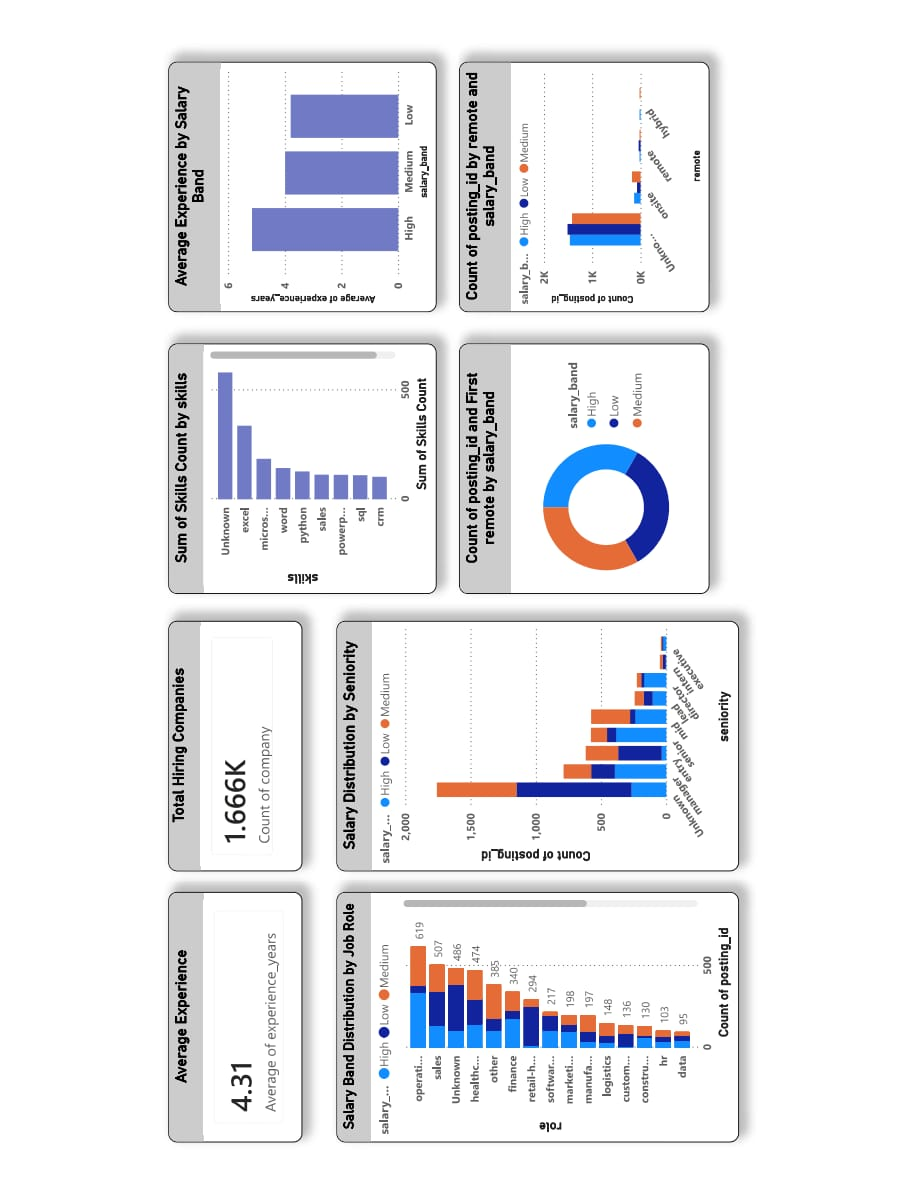

The page's visual inventory and layout, read from the dashboard file:
{"tool":"powerbi","page":{"name":"Salary & Skills Analysis","canvas":[1280,720],"ordinal":1},"visuals":[{"type":"cardVisual","title":"Average Experience","fields":{"Data":["Avg(Balanced_dataset.experience_years)"]},"box":[26.7,35,280,150],"z":0},{"type":"cardVisual","title":"Total Hiring Companies","fields":{"Data":["Count(Balanced_dataset.company)"]},"box":[330,35,280,150],"z":1},{"type":"barChart","title":"Salary Band Distribution by Job Role","fields":{"Category":["Balanced_dataset.role"],"Y":["CountNonNull(Balanced_dataset.posting_id)"],"Series":["Balanced_dataset.salary_band"]},"box":[26.7,223.3,280,450],"z":2},{"type":"columnChart","title":"Salary Distribution by Seniority","fields":{"Category":["Balanced_dataset.seniority"],"Y":["CountNonNull(Balanced_dataset.posting_id)"],"Series":["Balanced_dataset.salary_band"]},"box":[330,223.3,280,450],"z":3},{"type":"clusteredBarChart","fields":{"Category":["Skills Analysis.skills"],"Y":["Sum(Skills Analysis.Skills  Count)"]},"box":[640,35,280,300],"z":4},{"type":"clusteredColumnChart","title":"Average Experience by Salary Band","fields":{"Category":["Balanced_dataset.salary_band"],"Y":["Avg(Balanced_dataset.experience_years)"]},"box":[955,35,280,300],"z":5},{"type":"donutChart","fields":{"Y":["CountNonNull(Balanced_dataset.posting_id)"],"Category":["Balanced_dataset.salary_band"]},"box":[640,360,280,280],"z":6},{"type":"clusteredColumnChart","fields":{"Category":["Balanced_dataset.remote"],"Y":["CountNonNull(Balanced_dataset.posting_id)"],"Series":["Balanced_dataset.salary_band"]},"box":[955,360,280,280],"z":7}]}

Visuals, with their boxes on the page's 1280x720 design canvas (x1, y1, x2, y2). These are canvas units, not pixel positions in the 918x1188 screenshot, which may show the page scaled, cropped or inside an application window:
"Average Experience" cardVisual: (27, 35, 307, 185)
"Total Hiring Companies" cardVisual: (330, 35, 610, 185)
"Salary Band Distribution by Job Role" barChart: (27, 223, 307, 673)
"Salary Distribution by Seniority" columnChart: (330, 223, 610, 673)
clusteredBarChart - Skills Analysis.skills x Sum(Skills Analysis.Skills  Count): (640, 35, 920, 335)
"Average Experience by Salary Band" clusteredColumnChart: (955, 35, 1235, 335)
donutChart - CountNonNull(Balanced_dataset.posting_id) x Balanced_dataset.salary_band: (640, 360, 920, 640)
clusteredColumnChart - Balanced_dataset.remote x CountNonNull(Balanced_dataset.posting_id): (955, 360, 1235, 640)
